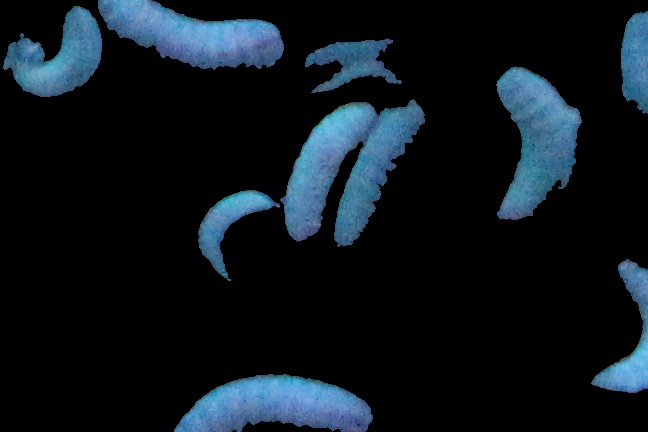larvae: (97, 1, 284, 91), (335, 100, 430, 262), (488, 64, 582, 227), (284, 109, 379, 247), (166, 377, 370, 432), (1, 4, 102, 95), (197, 187, 277, 291), (588, 261, 648, 394)
